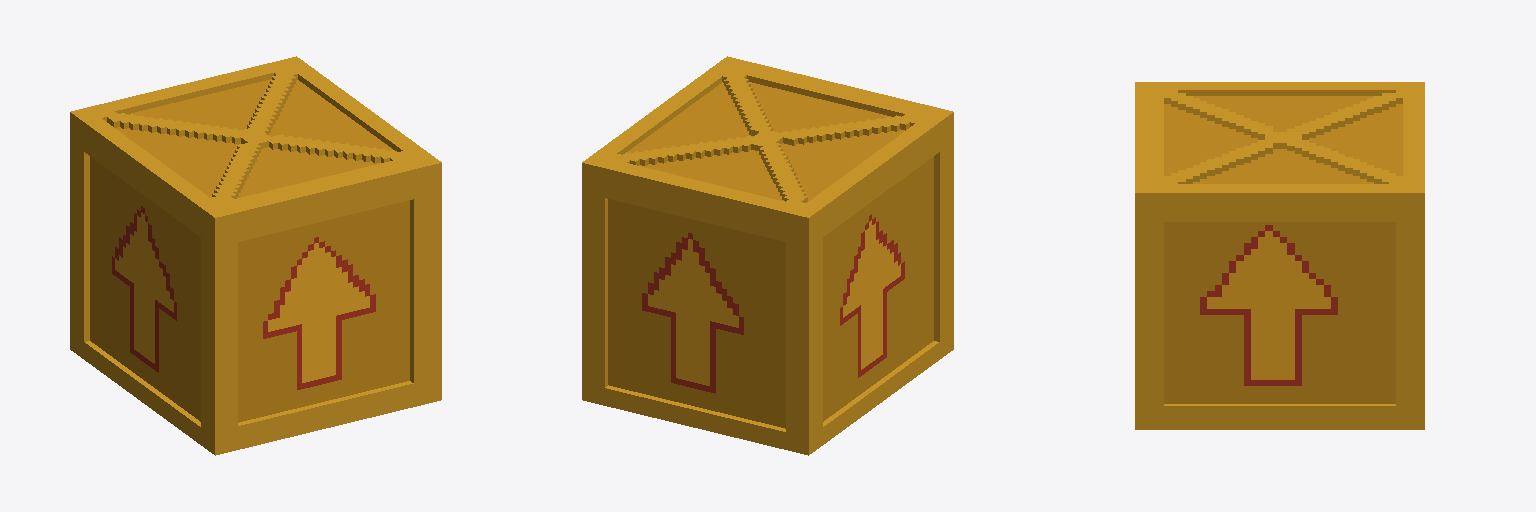
3 views of the same model, side by side, from view 1: azimuth 30°, elevation 25°; view 2: azimuth 150°, elevation 25°; view 3: azimuth 270°, elevation 25° (orthographic).
Visible parts, largest first — view 1: jump; view 2: jump; view 3: jump.
Part boxes in pixels (left/top/right/bottom): jump: left=70, top=56, right=441, bottom=455; jump: left=582, top=56, right=953, bottom=455; jump: left=1135, top=82, right=1424, bottom=429.
Bounding box in the file's own units: 10.58 × 10.58 × 11.72.
1 materials, 1 textured.